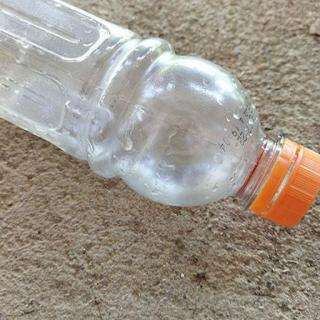Plastic-bottle: (1, 1, 320, 232)
